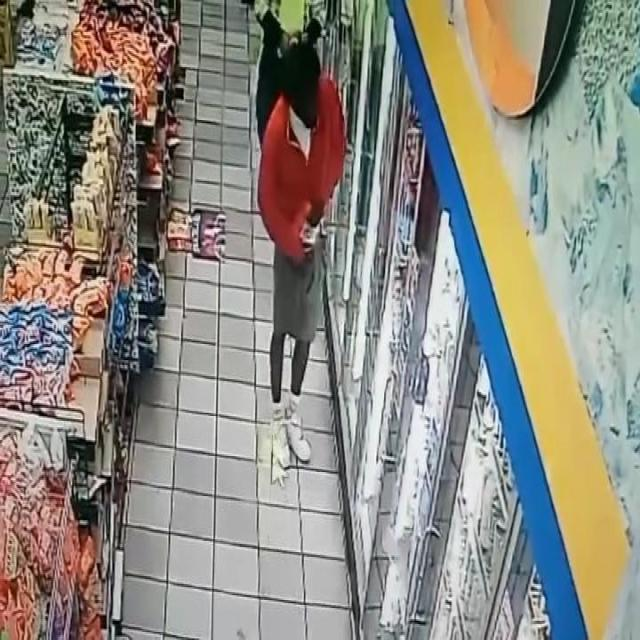Shoplifting: (235, 30, 344, 534)
